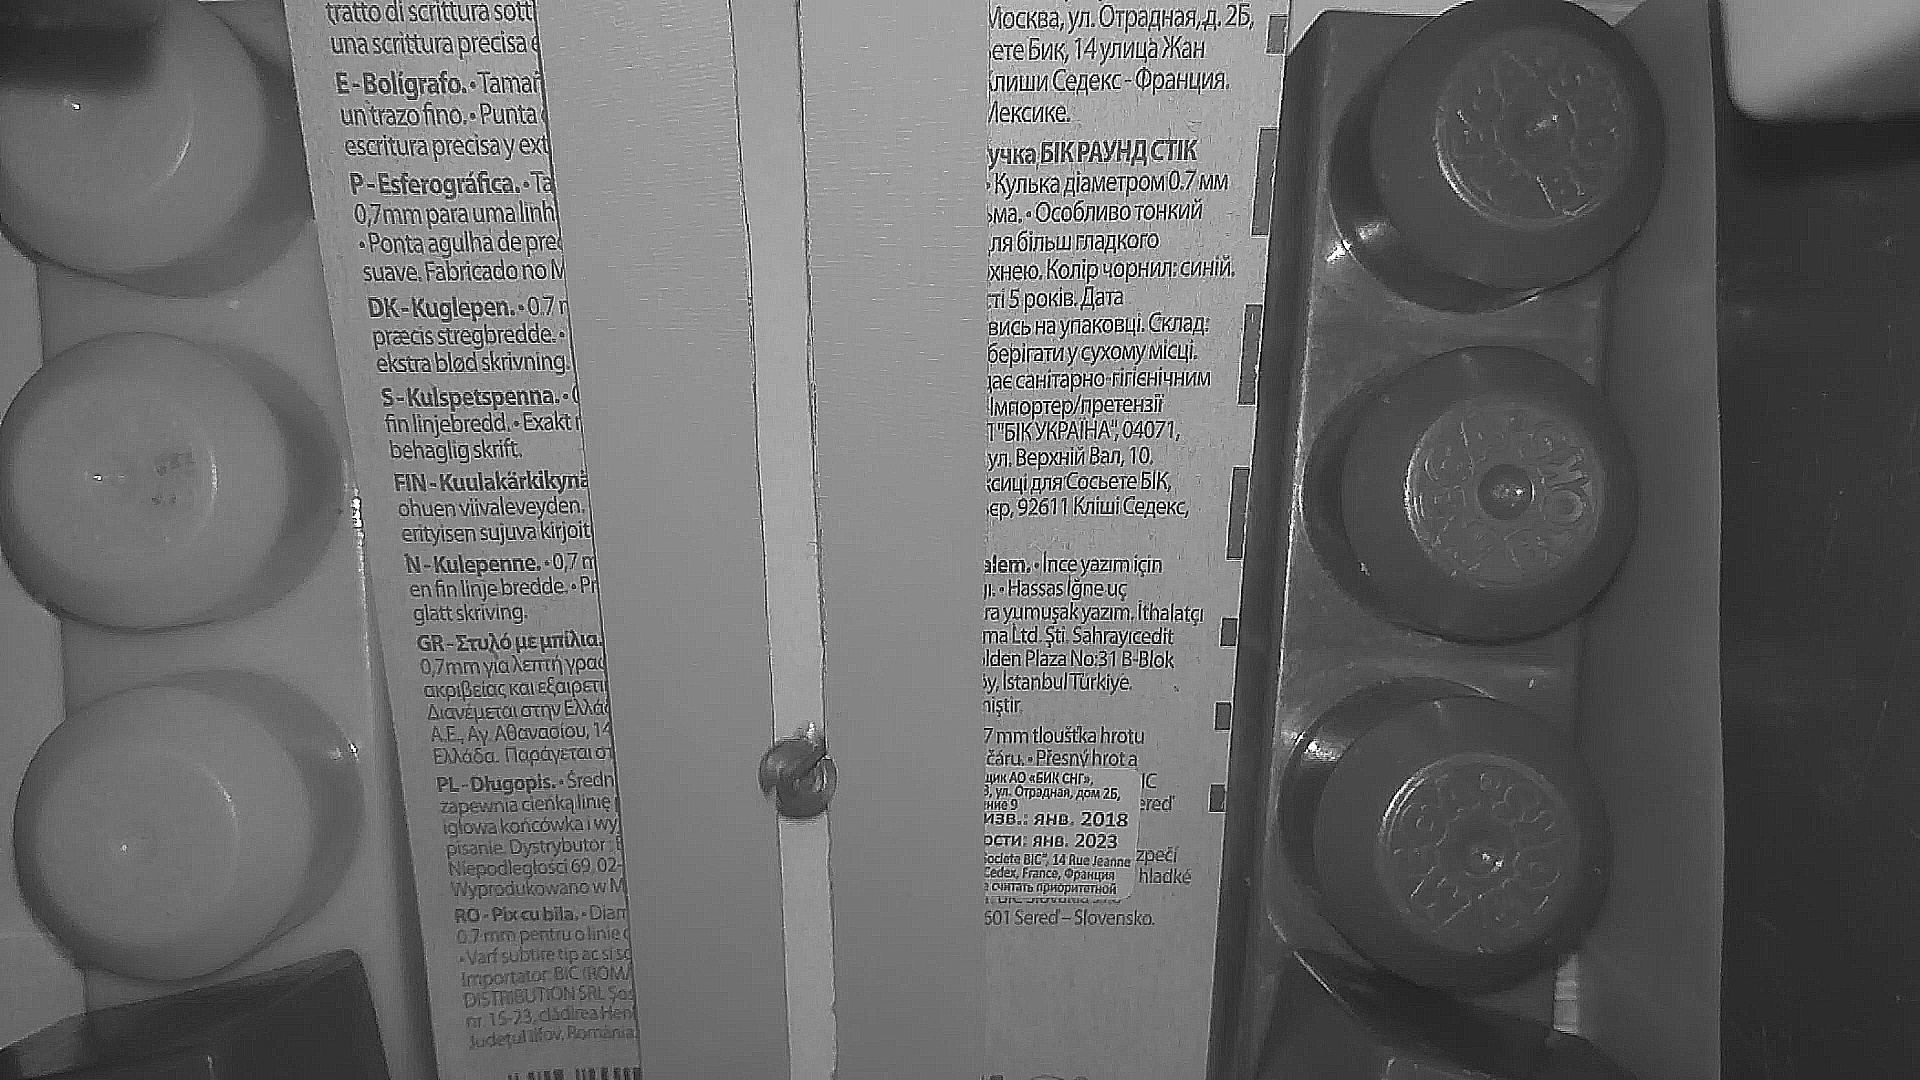i: (757, 738, 837, 819)
